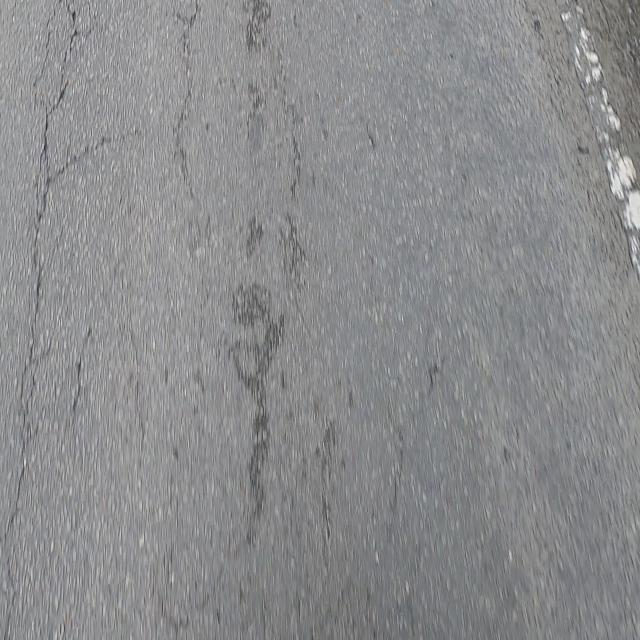Retak-Memanjang: (0, 3, 79, 602), (173, 0, 200, 202)
